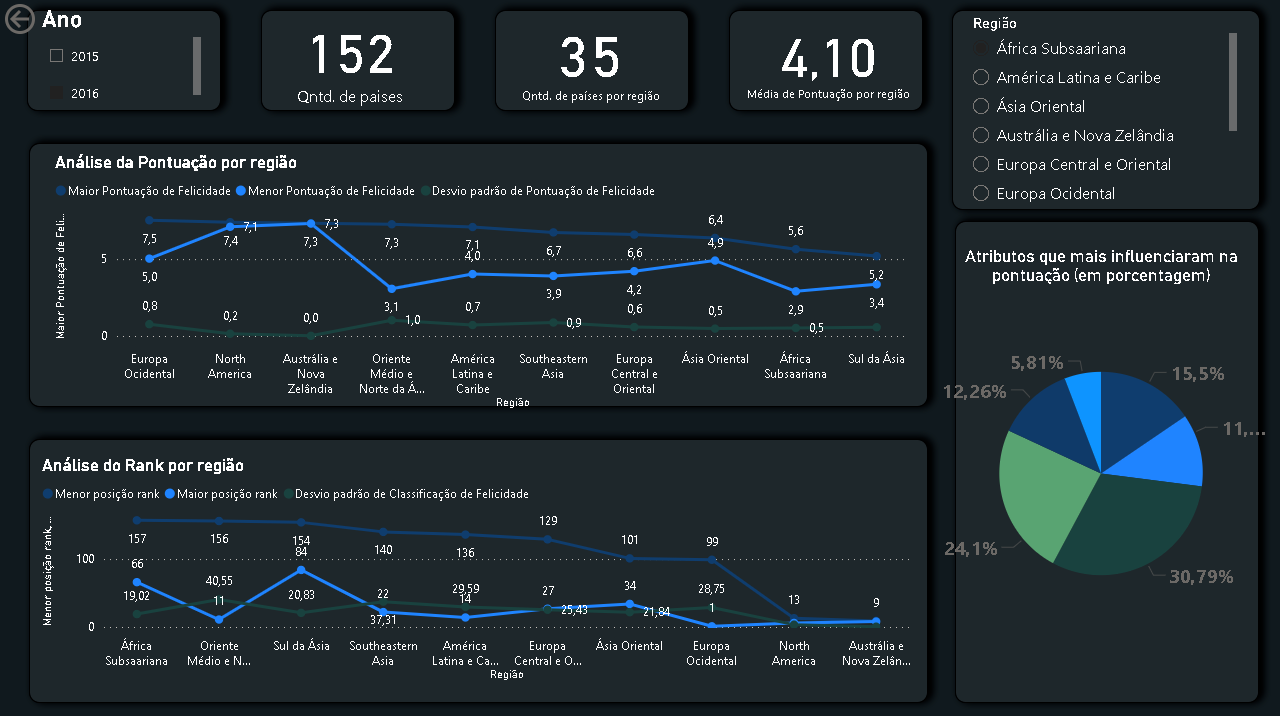

What the dashboard file says about the page in this screenshot:
{"tool":"powerbi","page":{"name":"Página 1","canvas":[1280,720],"ordinal":0},"visuals":[{"type":"card","fields":{"Values":["Tabela.Qntd. de paises"]},"box":[216.9,0,266.2,116.9],"z":0},{"type":"actionButton","box":[0,0,100,40],"z":1000},{"type":"lineChart","title":"Análise do Rank por região","fields":{"Category":["Country (Felicidade 2015).Region"],"Y":["Max(Country (Felicidade 2015).Happiness Rank)","Min(Country (Felicidade 2015).Happiness Rank)","Sum(Country (Felicidade 2015).Classificação de Felicidade)"]},"box":[36.7,455.6,883.3,230],"z":2000},{"type":"slicer","title":"Ano","fields":{"Values":["Country (Felicidade 2015).Year"]},"box":[36.7,6.7,168.9,106.7],"z":3000},{"type":"card","title":"Quantidade de países por Região","fields":{"Values":["CountNonNull(Country (Felicidade 2015).Happiness Rank)"]},"box":[483.1,6.9,214.6,102.3],"z":4000},{"type":"pieChart","title":"Atributos que mais influenciaram na pontuação (em porcentagem)","fields":{"Y":["Sum(Country (Felicidade 2015).Freedom)","Sum(Country (Felicidade 2015).Generosity)","Sum(Country (Felicidade 2015).Family)","Sum(Country (Felicidade 2015).Economy (GDP per Capita))","Sum(Country (Felicidade 2015).Health (Life Expectancy))","Sum(Country (Felicidade 2015).Trust (Government Corruption))"]},"box":[928.6,247.1,344.3,417.1],"z":5000},{"type":"slicer","fields":{"Values":["Country (Felicidade 2015).Region"]},"box":[960,10.8,282.3,196.9],"z":6000},{"type":"lineChart","title":"Análise da Pontuação por região","fields":{"Category":["Country (Felicidade 2015).Região"],"Y":["Max(Country (Felicidade 2015).Pontuação de Felicidade)","Min(Country (Felicidade 2015).Pontuação de Felicidade)","Sum(Country (Felicidade 2015).Pontuação de Felicidade)"]},"box":[50,153.3,870,261.1],"z":7000},{"type":"card","fields":{"Values":["Avg(Country (Felicidade 2015).Pontuação de Felicidade)"]},"box":[728.5,3.8,200.8,107.7],"z":8001}]}

Visuals, with their boxes in screenshot pixels (x1, y1, x2, y2), scaled from the page's 1280x720 canvas onto the 1280x716 screenshot:
card - Tabela.Qntd. de paises: [217,0,483,116]
actionButton: [0,0,100,40]
"Análise do Rank por região" lineChart: [37,453,920,682]
"Ano" slicer: [37,7,206,113]
"Quantidade de países por Região" card: [483,7,698,109]
"Atributos que mais influenciaram na pontuação (em porcentagem)" pieChart: [929,246,1273,661]
slicer - Country (Felicidade 2015).Region: [960,11,1242,207]
"Análise da Pontuação por região" lineChart: [50,152,920,412]
card - Avg(Country (Felicidade 2015).Pontuação de Felicidade): [728,4,929,111]
